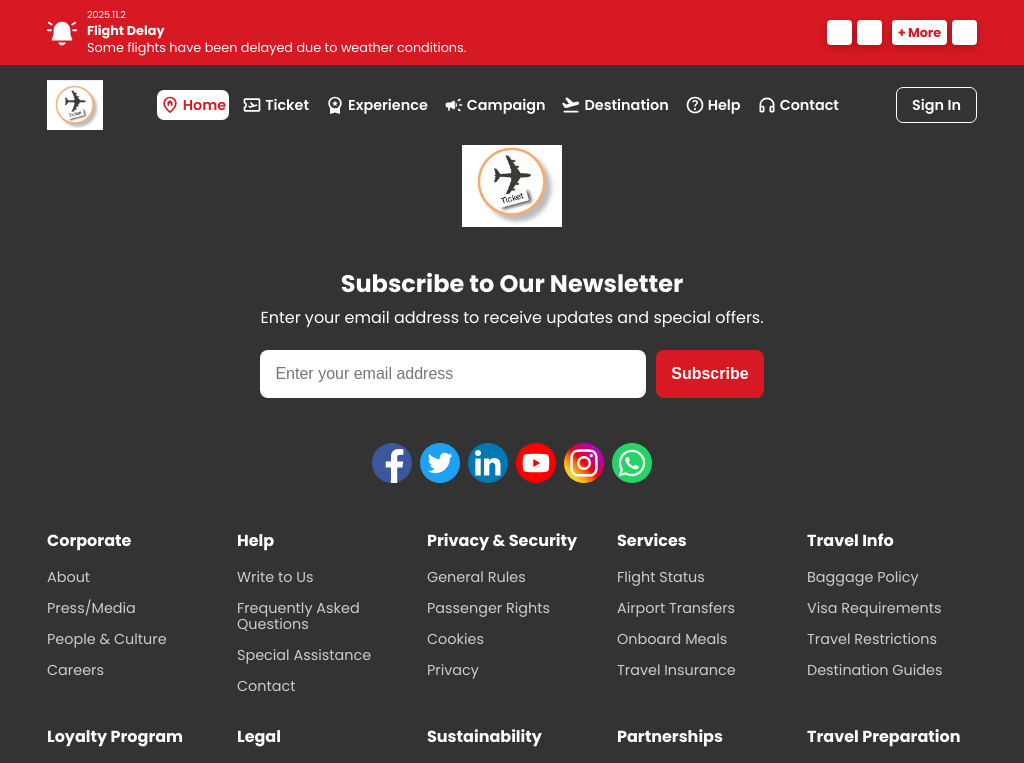
it: Newsletter Component › Should show a success message when a valid email is submitted
(page scrolled)
Type "test@example.com" into the field with placeholder "Enter your email address". click: [453, 374]
box: 260,350 -> 646,398
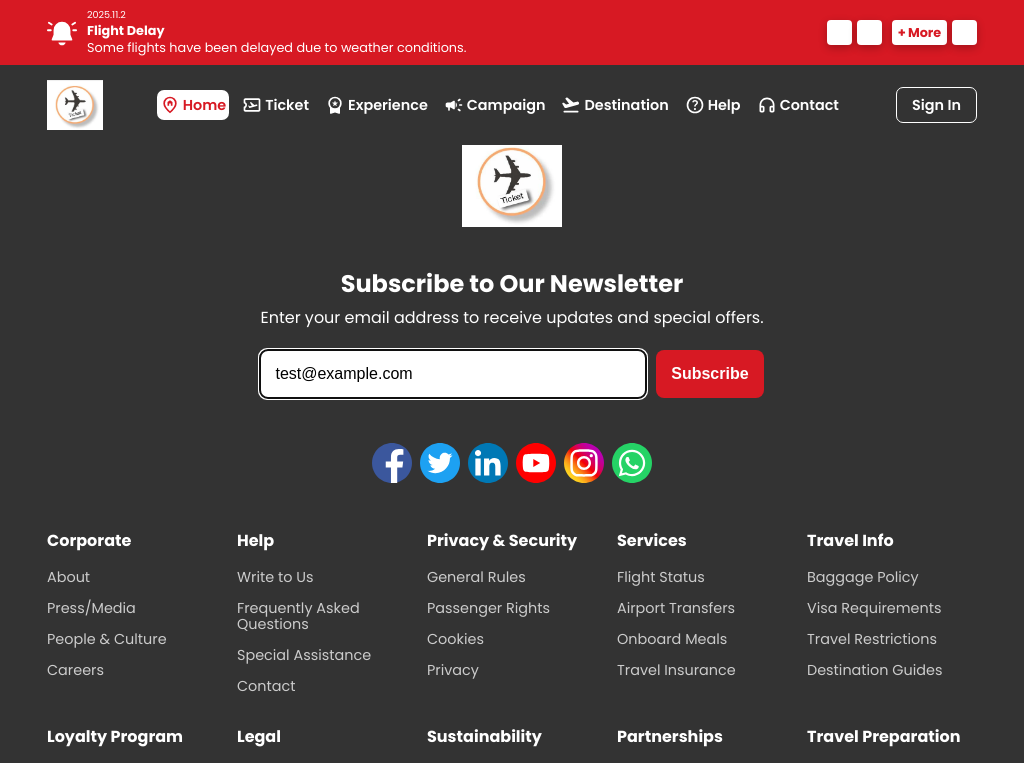
Submit the form, box 260,350 -> 763,398
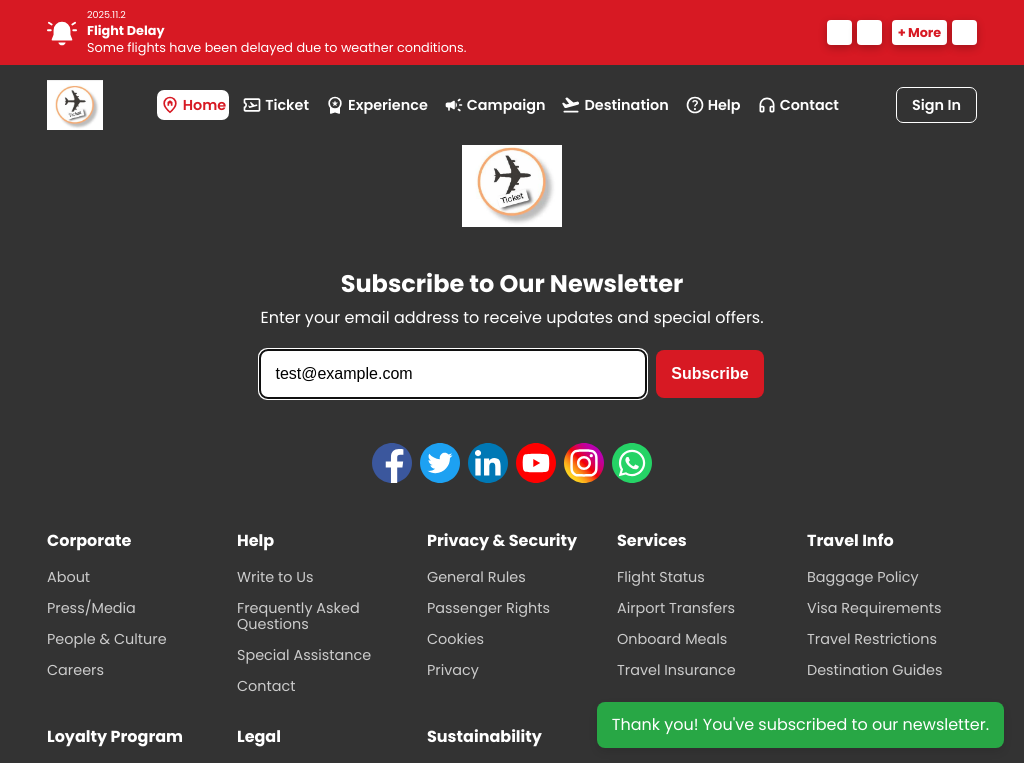
Result: the text "Thank you! You've subscribed to our newsletter." is shown at 612,717 -> 989,733
